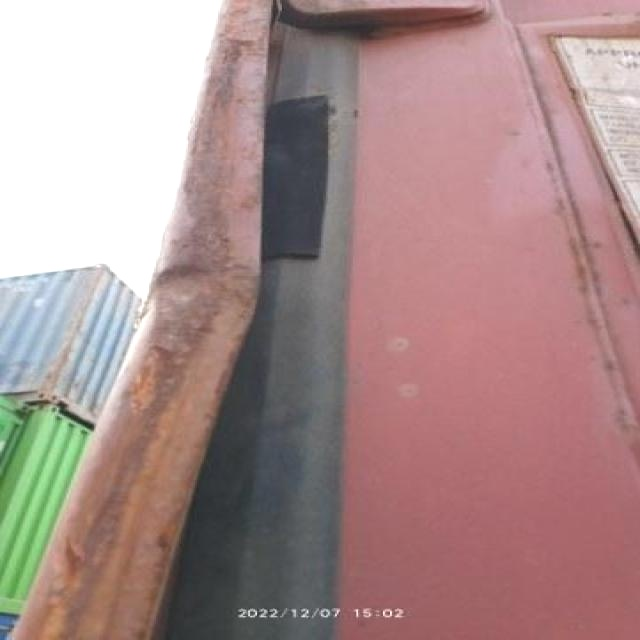Dent: (97, 144, 269, 453)
